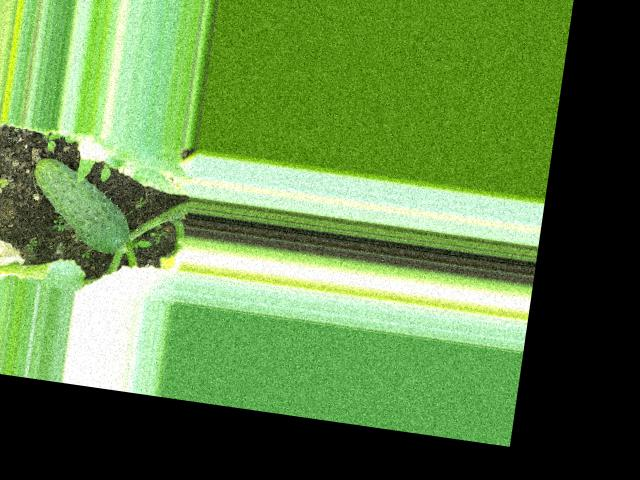cucumber: (24, 156, 139, 256)
